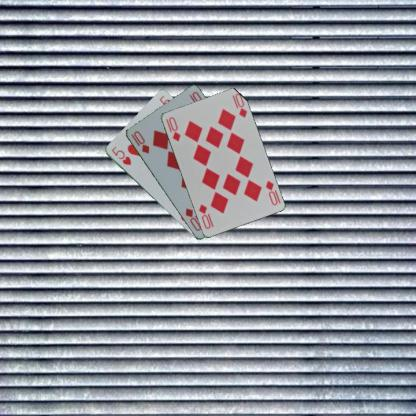10d: (128, 128, 150, 155), (163, 114, 181, 143), (263, 178, 279, 206)
5h: (109, 144, 132, 166)
